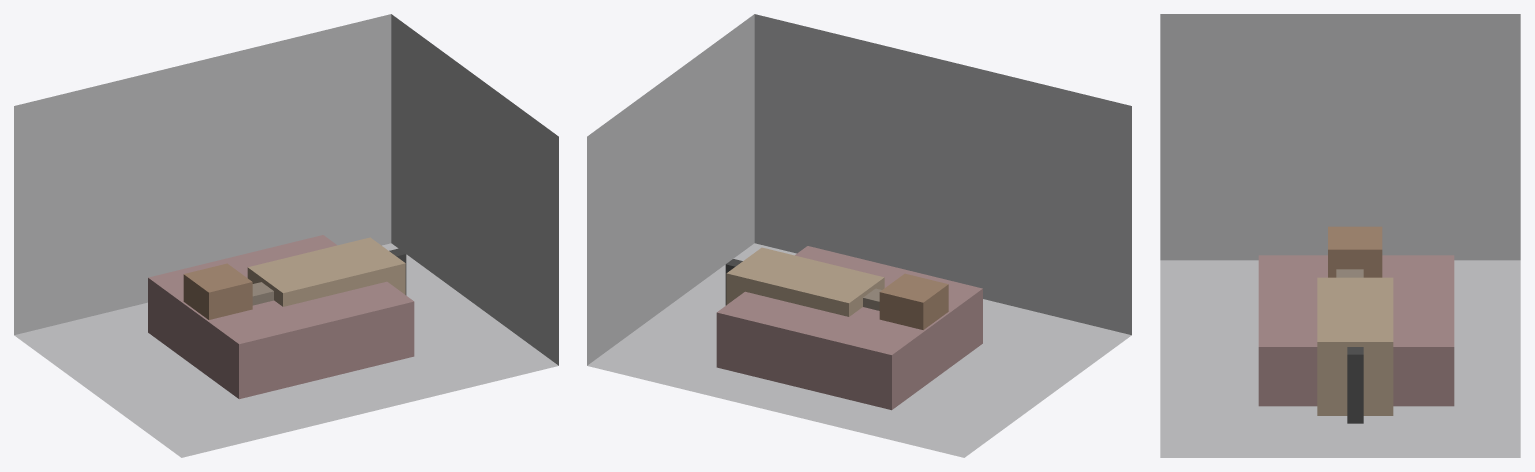
Rendered from optimised_layout.glb.
3 views of the same model, side by side, from view 1: azimuth 30°, elevation 25°; view 2: azimuth 150°, elevation 25°; view 3: azimuth 270°, elevation 25° (orthographic). The views are drawn at different scales.
Parts seen in each view (by area): view 1: room, bed, desk, chair; view 2: room, bed, desk, chair; view 3: room, bed, desk, chair, tv.
Part boxes in pixels (x1,y1,x2,y2): room: [14, 14, 558, 457]; bed: [148, 235, 414, 399]; desk: [247, 237, 405, 306]; chair: [183, 263, 252, 319]; room: [587, 14, 1131, 457]; bed: [716, 246, 982, 410]; desk: [726, 247, 884, 316]; chair: [879, 273, 948, 329]; room: [1160, 14, 1520, 457]; bed: [1258, 255, 1454, 406]; desk: [1317, 277, 1393, 415]; chair: [1328, 226, 1382, 277]; tv: [1347, 347, 1363, 423].
Size of the model in its own units: 4.31 by 2.5 by 3.31.
